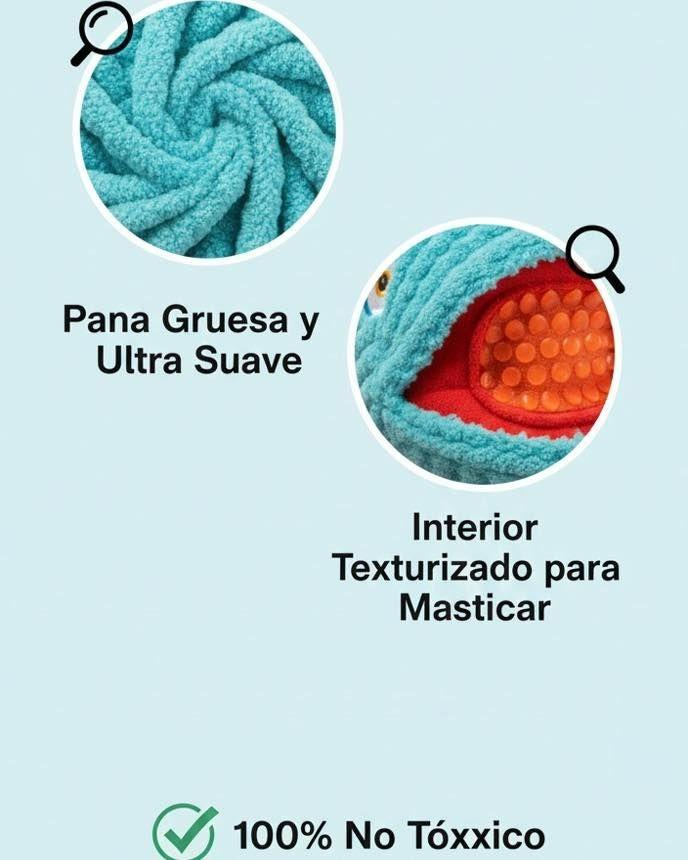non-dog: (1, 0, 688, 858)
